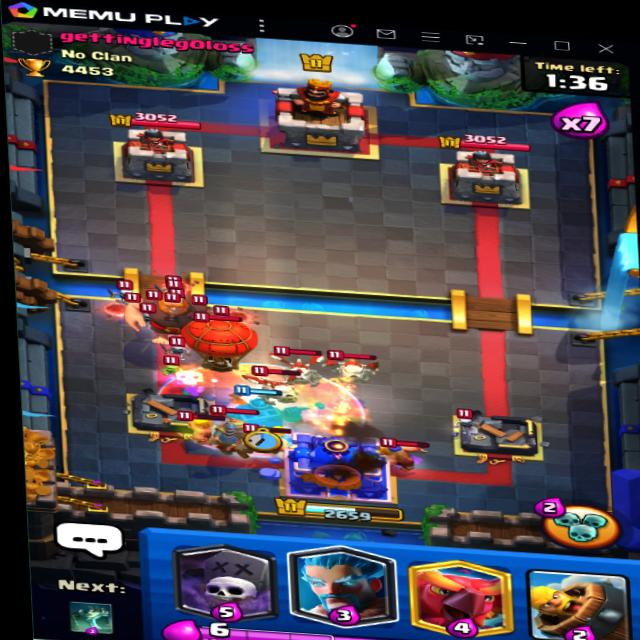Balloon: (174, 306, 250, 378)
Barbarian: (376, 434, 427, 469), (176, 409, 222, 440)
Giant: (130, 285, 226, 345)
Prince: (215, 405, 273, 463)
Skeleton: (450, 407, 481, 432), (163, 356, 192, 378), (110, 280, 134, 304), (166, 336, 187, 357)
Skeletondragon: (322, 348, 385, 391), (262, 345, 326, 386), (246, 371, 313, 409)
